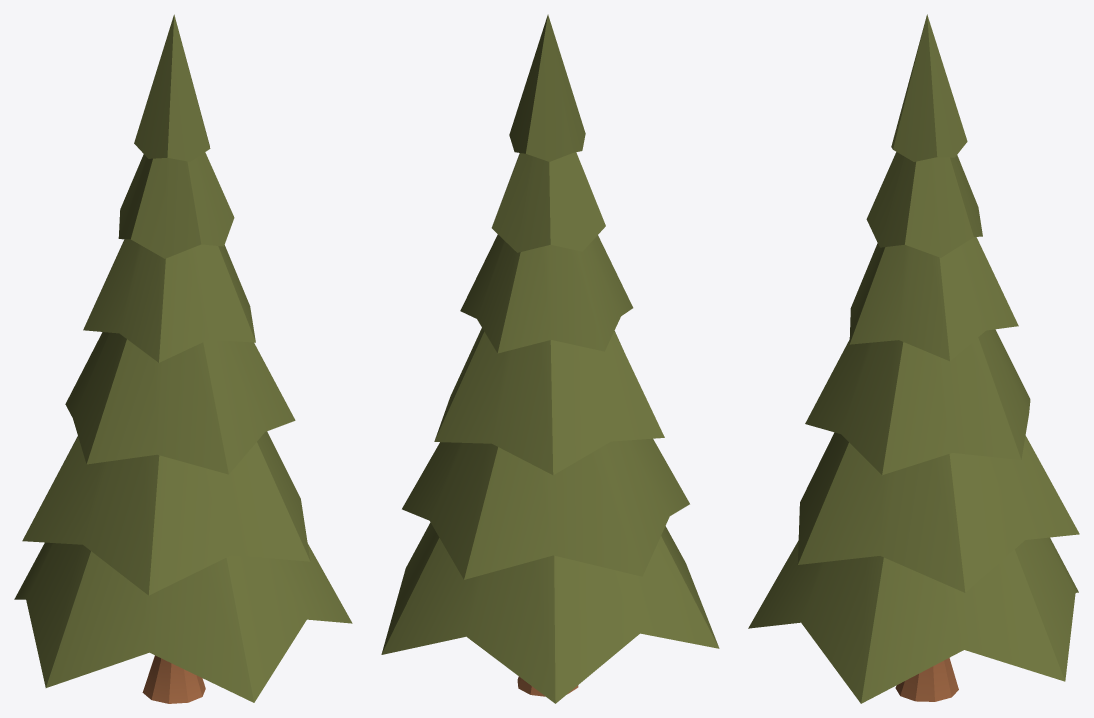
File: Tree10.glb
The picture shows the model from 3 angles, left to right: view 1: azimuth 30°, elevation 25°; view 2: azimuth 150°, elevation 25°; view 3: azimuth 270°, elevation 25°; orthographic projection.
Parts seen in each view (by area): view 1: Pinetree Leaves.005; view 2: Pinetree Leaves.005; view 3: Pinetree Leaves.005.
Boxes of the visible parts, <box> form: Pinetree Leaves.005: <box>14,14,352,703</box>; Pinetree Leaves.005: <box>381,14,719,703</box>; Pinetree Leaves.005: <box>748,14,1079,703</box>.
Bounding box in the file's own units: 1.62 × 3.53 × 1.57.
